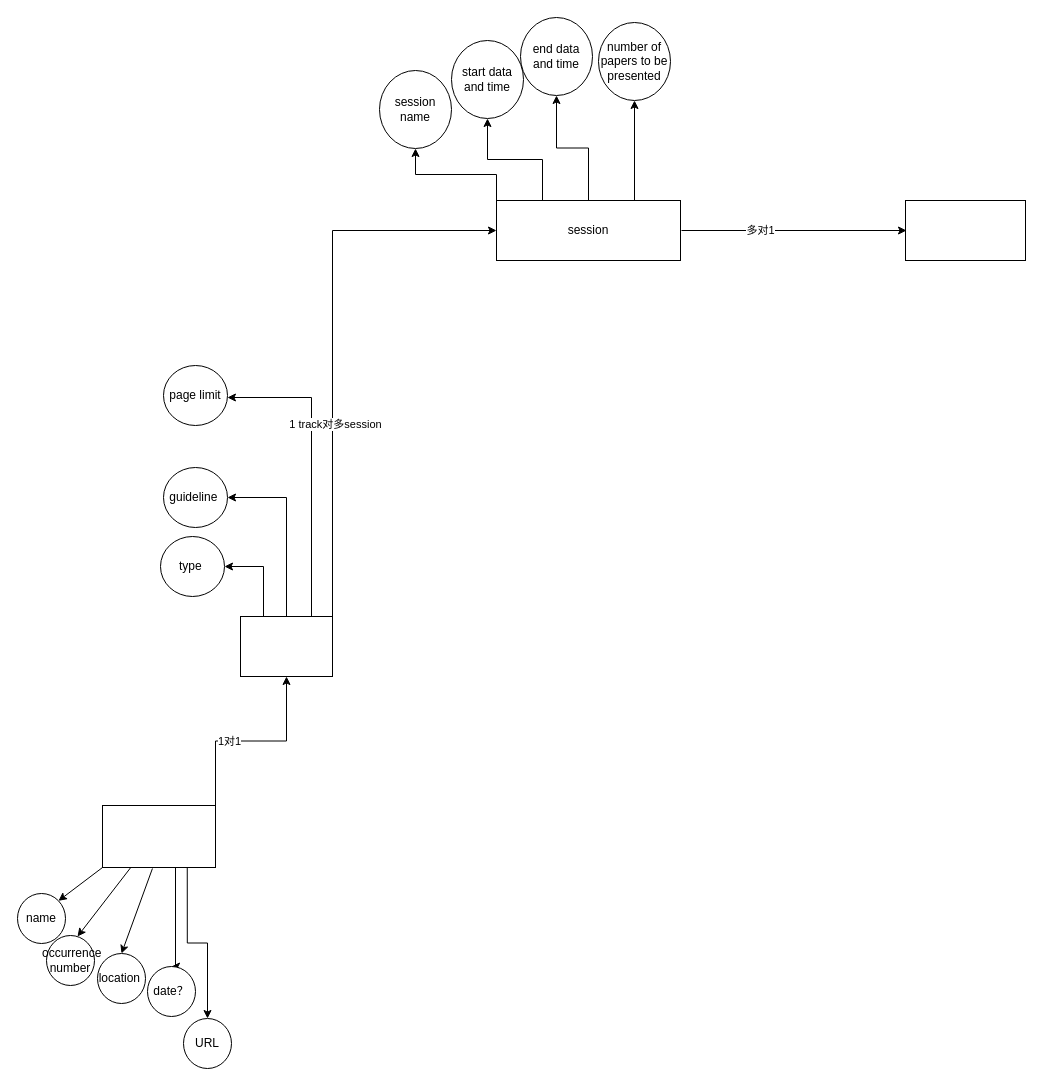
The diagram is 1043 pixels wide and 1086 high, and some of its shapes have lost their labels. Each missing label, with the centre of its shape:
Conference event: the point at 159,836
researcher: the point at 965,230
Track: the point at 286,646
